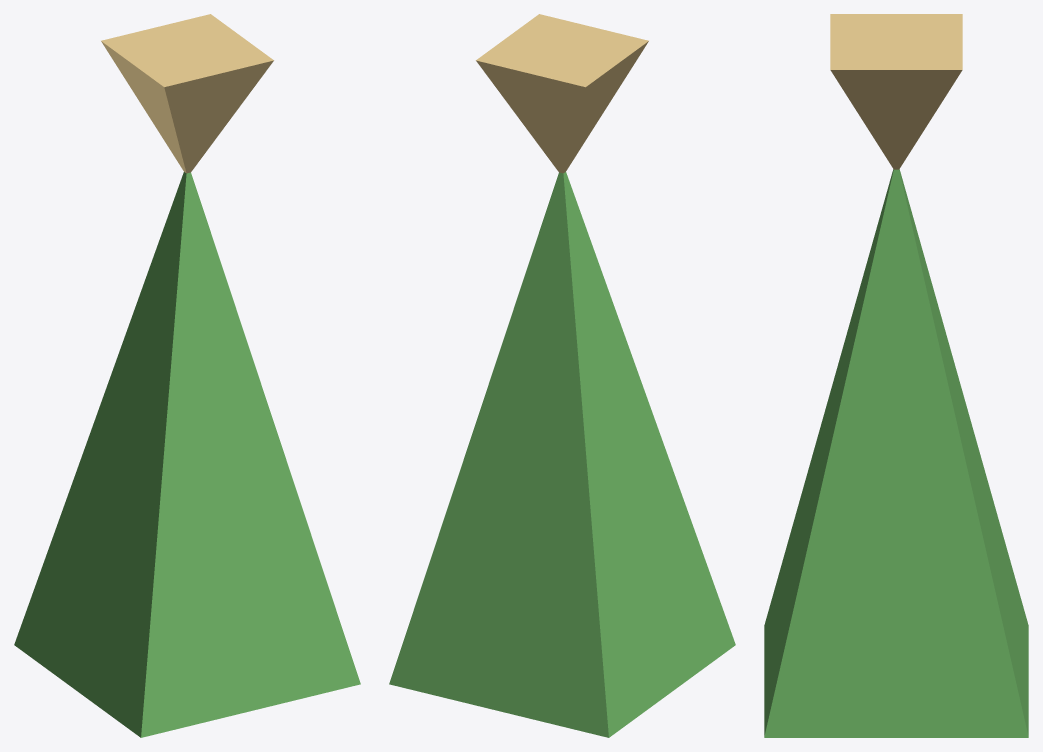
The model's file is coloner 1.FBX.
3 renders of one model, left to right at view 1: azimuth 30°, elevation 25°; view 2: azimuth 150°, elevation 25°; view 3: azimuth 270°, elevation 25°, orthographic. The views are drawn at different scales.
Parts seen in each view (by area): view 1: Coloner, Head; view 2: Coloner, Head; view 3: Coloner, Head.
Boxes of the visible parts, x1,y1,x2,y2 form: Coloner: (14, 172, 360, 737); Head: (101, 14, 273, 173); Coloner: (389, 172, 735, 737); Head: (476, 14, 648, 173); Coloner: (764, 169, 1028, 737); Head: (830, 14, 962, 169).
Bounding box in the file's own units: 10 × 26.69 × 10.
